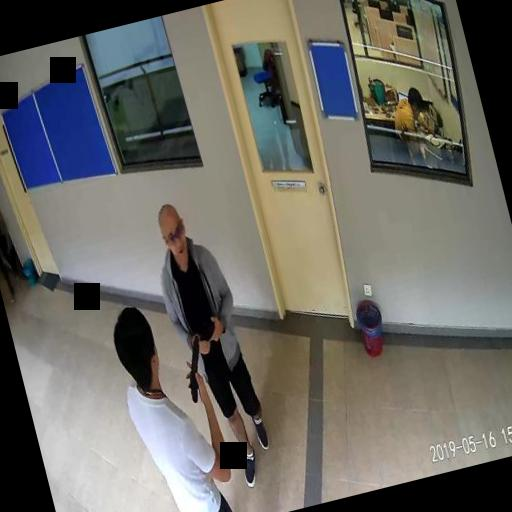Handgun: (177, 336, 211, 403)
